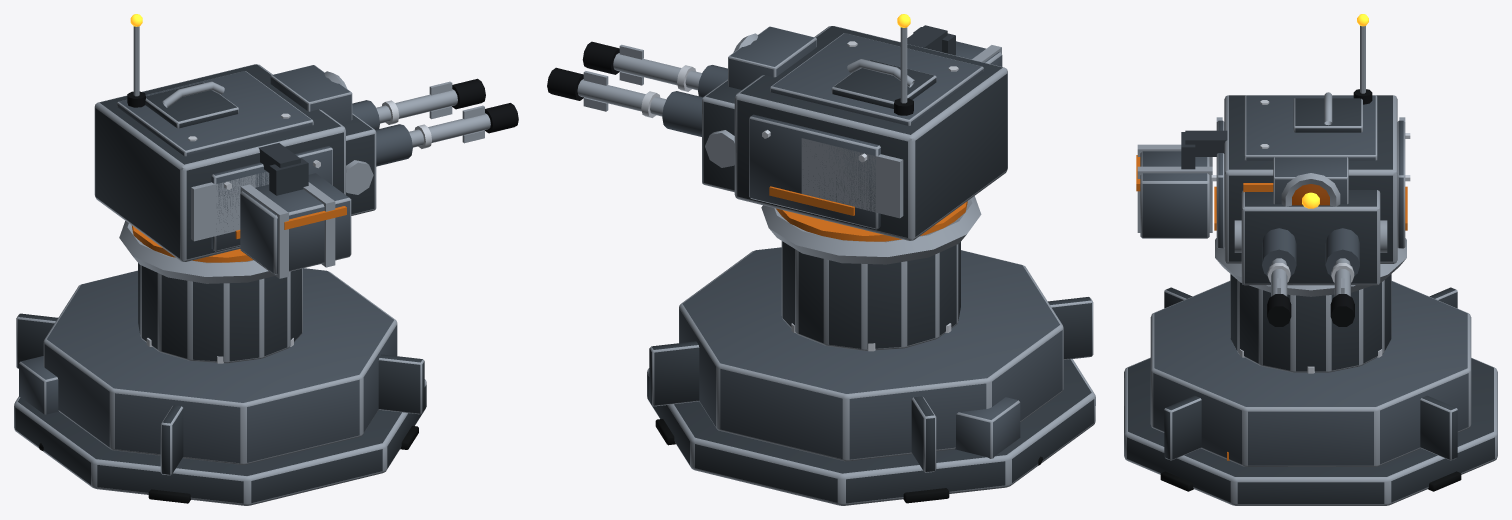
Rendered from enemigo_torreta.glb.
3 renders of one model, left to right at view 1: azimuth 30°, elevation 25°; view 2: azimuth 150°, elevation 25°; view 3: azimuth 270°, elevation 25°, orthographic. The views are drawn at different scales.
Parts seen in each view (by area): view 1: torreta_giratoria, base_blindada, plato, pedestal, canones, corona_giro, faldon_4, caja_conexiones, faldon_2, faldon_3, aro_aviso; view 2: torreta_giratoria, base_blindada, plato, pedestal, canones, corona_giro, faldon_1, caja_conexiones, faldon_3, aro_aviso, faldon_2; view 3: base_blindada, torreta_giratoria, plato, canones, pedestal, faldon_1, faldon_4, corona_giro.
Boxes of the visible parts, <box> form: torreta_giratoria: <box>94,14,352,278</box>; base_blindada: <box>43,268,397,464</box>; plato: <box>14,379,426,505</box>; pedestal: <box>138,263,302,363</box>; canones: <box>340,78,518,215</box>; corona_giro: <box>119,221,274,283</box>; faldon_4: <box>378,354,424,414</box>; caja_conexiones: <box>19,356,58,414</box>; faldon_2: <box>16,313,57,368</box>; faldon_3: <box>160,405,183,475</box>; aro_aviso: <box>131,225,252,262</box>; torreta_giratoria: <box>728,14,1007,240</box>; base_blindada: <box>679,247,1063,461</box>; plato: <box>647,359,1095,505</box>; pedestal: <box>781,241,960,350</box>; canones: <box>547,41,741,192</box>; corona_giro: <box>761,196,981,264</box>; faldon_1: <box>649,341,699,406</box>; caja_conexiones: <box>955,397,1020,458</box>; faldon_3: <box>1048,297,1093,359</box>; aro_aviso: <box>776,201,967,241</box>; faldon_2: <box>911,396,936,472</box>; base_blindada: <box>1150,281,1471,466</box>; torreta_giratoria: <box>1136,14,1410,263</box>; plato: <box>1124,357,1497,505</box>; canones: <box>1234,190,1387,326</box>; pedestal: <box>1230,274,1391,372</box>; faldon_1: <box>1420,395,1457,460</box>; faldon_4: <box>1164,395,1201,460</box>; corona_giro: <box>1215,238,1406,296</box>.
Bounding box in the file's own units: 0.8599 × 0.7399 × 0.6467.
